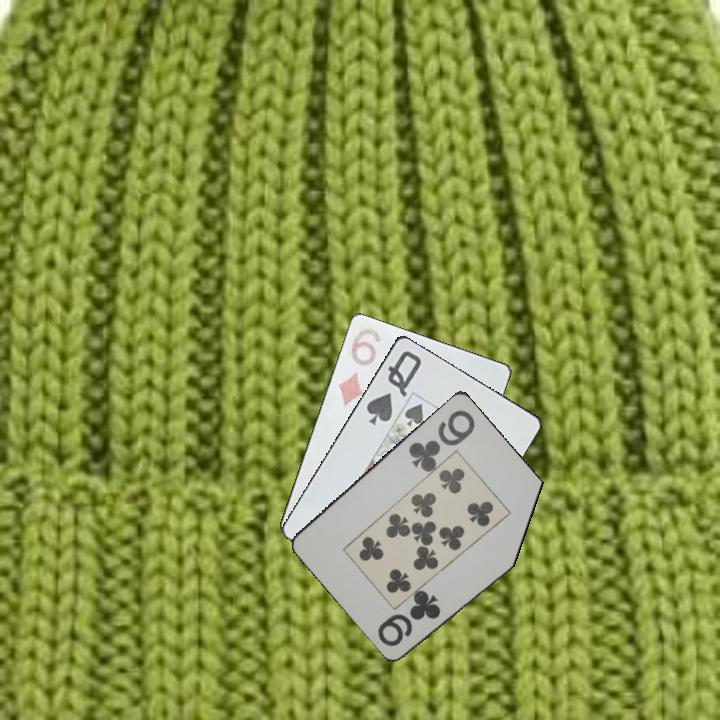6d: (335, 323, 384, 409)
9c: (405, 406, 478, 474), (373, 588, 444, 649)
Qs: (362, 347, 424, 428)
